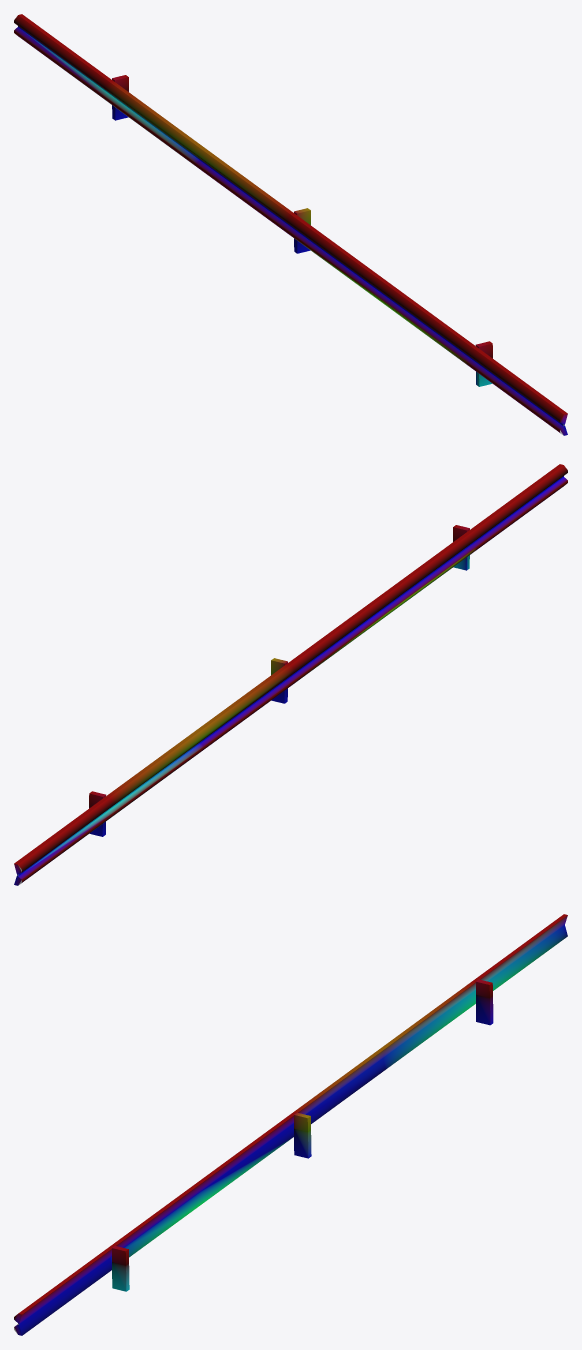
Rendered from Road_Barrier_Metal.fbx.
3 renders of one model, top to bottom at view 1: azimuth 30°, elevation 25°; view 2: azimuth 150°, elevation 25°; view 3: azimuth 330°, elevation 25°, orthographic.
Parts seen in each view (by area): view 1: Road_Barrier_Metal; view 2: Road_Barrier_Metal; view 3: Road_Barrier_Metal.
Boxes of the visible parts, x1,y1,x2,y2 form: Road_Barrier_Metal: (14,14,567,435); Road_Barrier_Metal: (14,464,567,885); Road_Barrier_Metal: (14,914,567,1335).
Size of the model in its own units: 0.477 by 0.7952 by 19.56.
